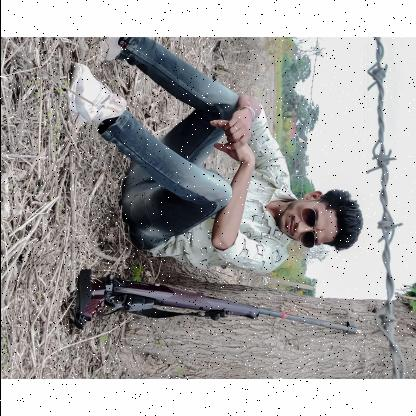rifle: (75, 272, 362, 336)
